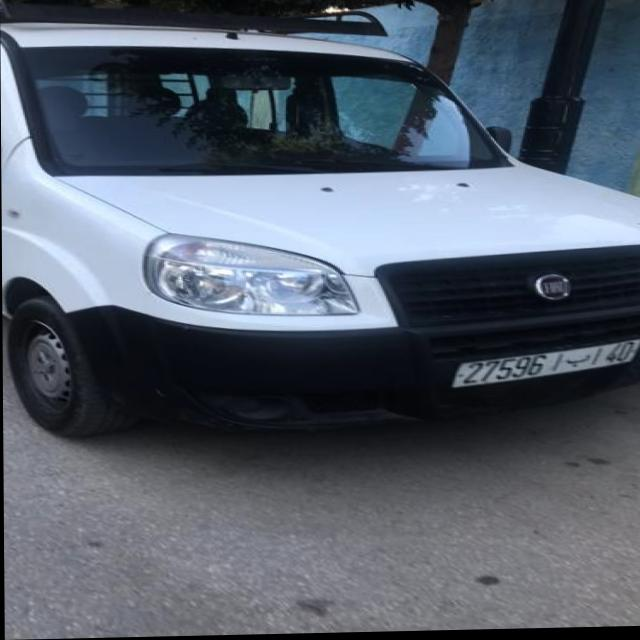License-Plate: (451, 343, 640, 389)
